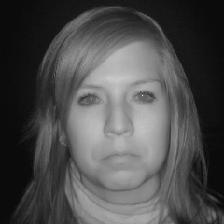sad: (28, 7, 210, 202)
